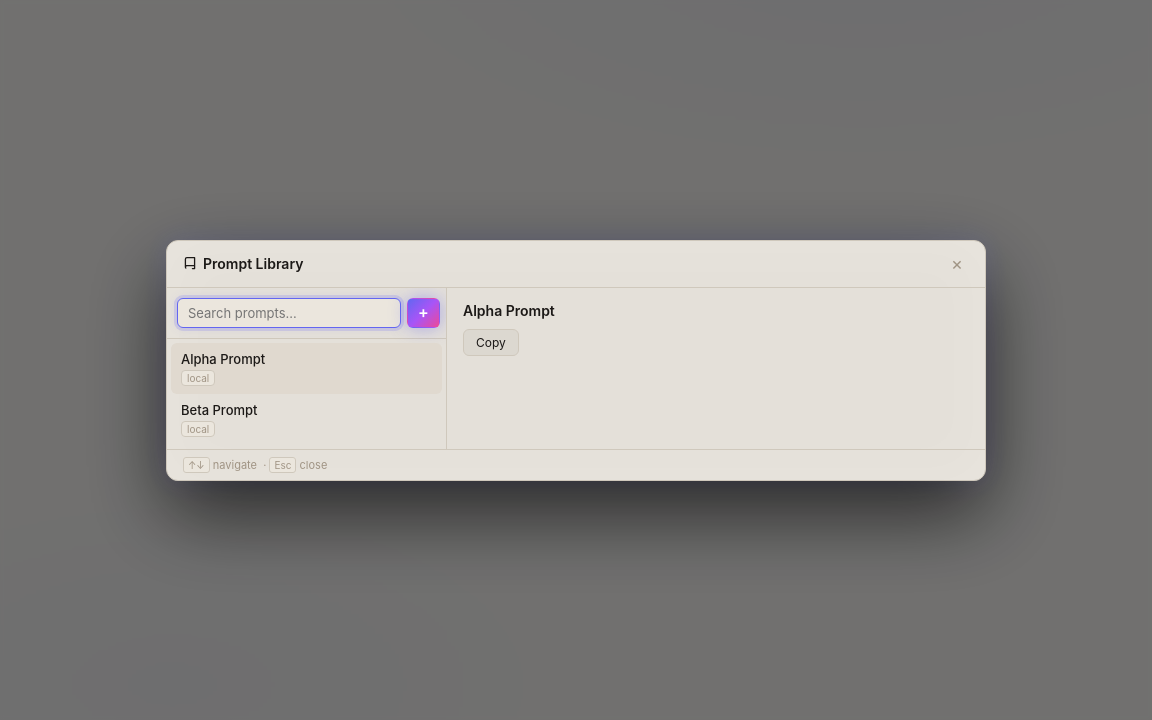
Scenario: PromptLibrary › filters the list by description query
In the field with placeholder "Search prompts…": (289, 312) left=177, top=298, right=401, bottom=328, type "alpha"
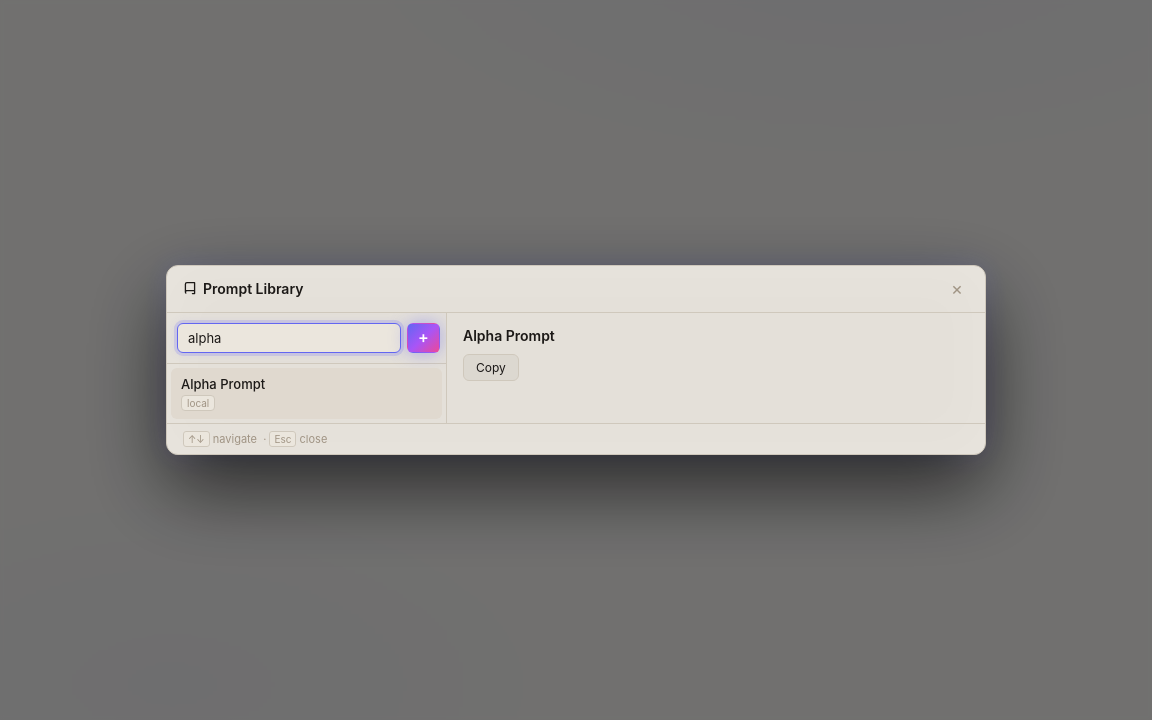
Expected: the text "Beta Prompt" is gone
